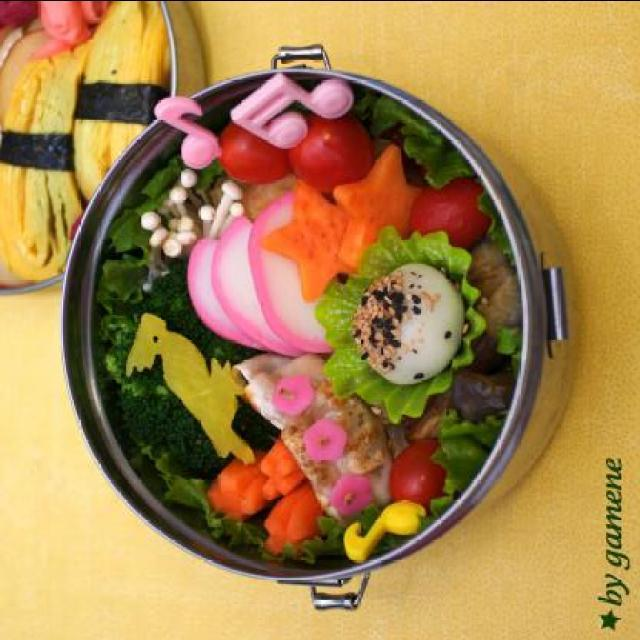Tomato: (288, 104, 366, 185), (411, 174, 486, 248), (222, 122, 284, 186), (391, 442, 442, 506)
